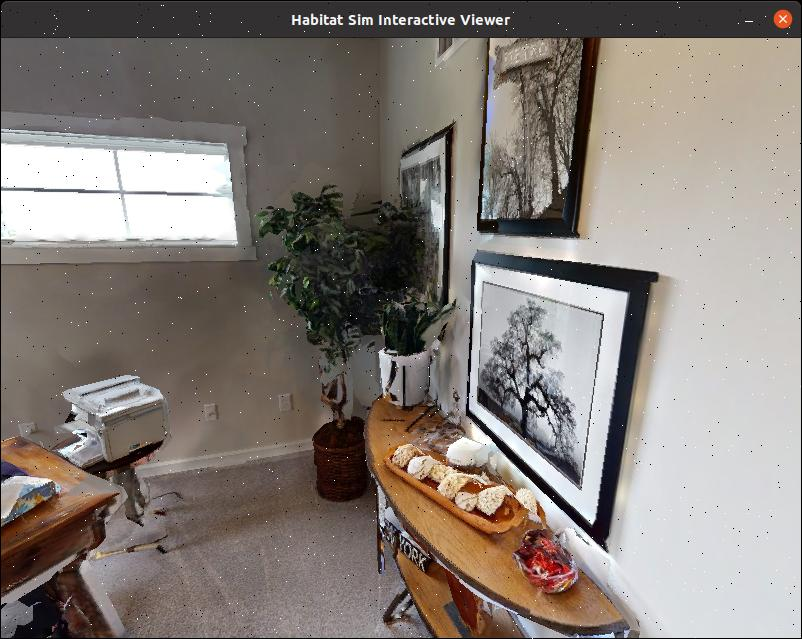table: (361, 377, 670, 639)
